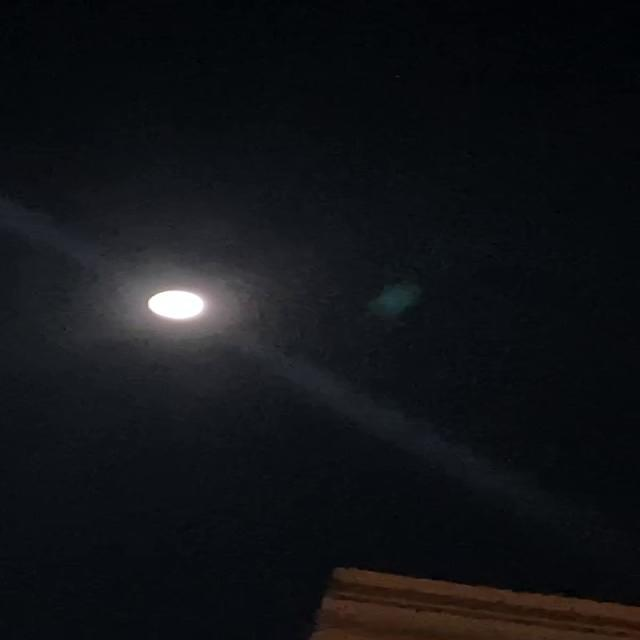moon: (138, 280, 230, 326)
